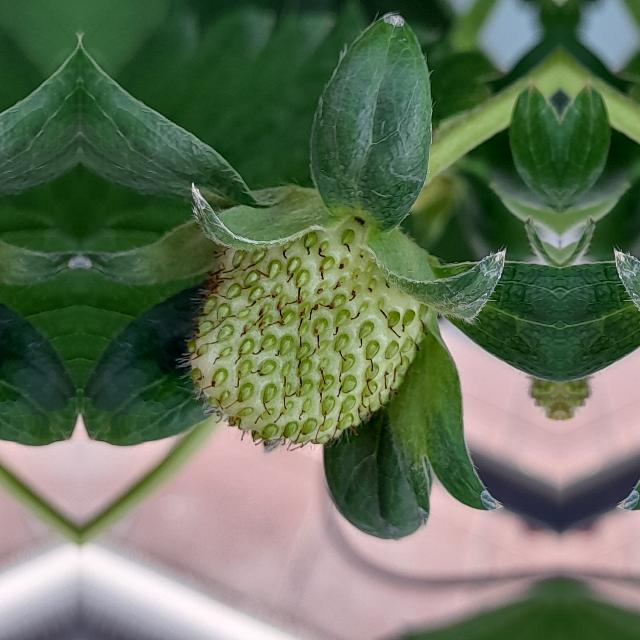Health_25: (175, 223, 442, 453)
